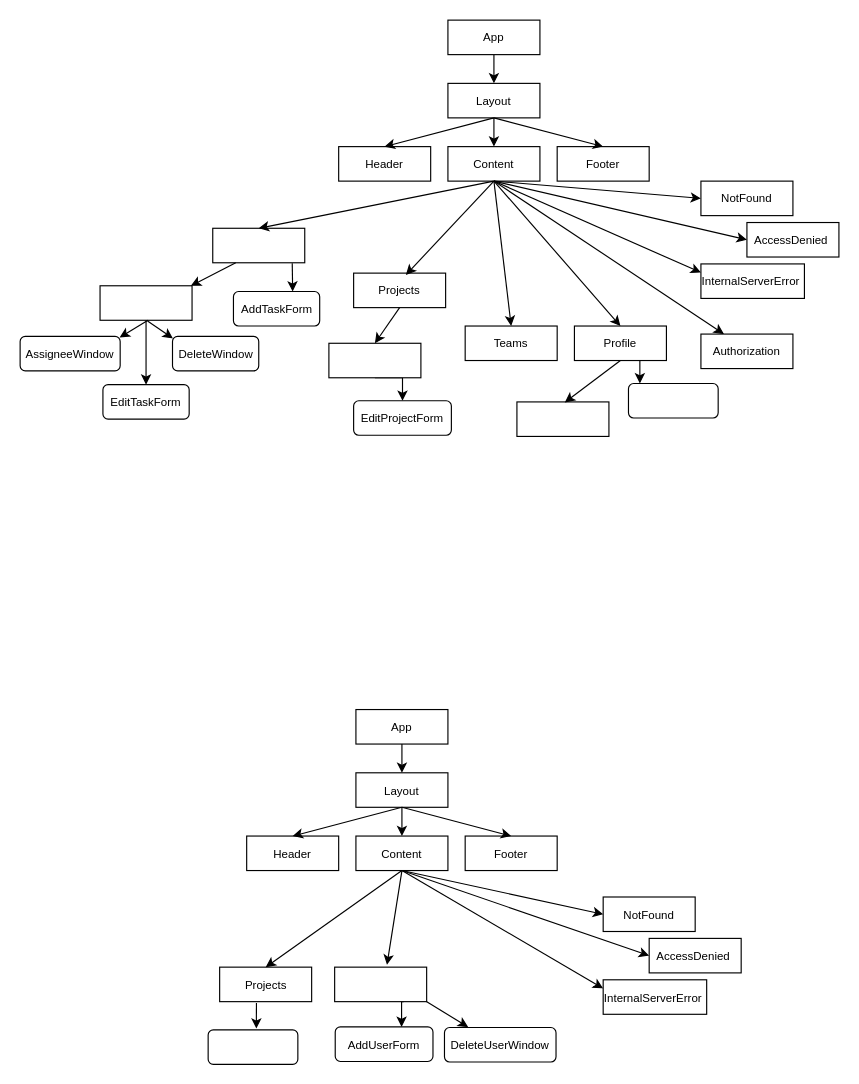
Image size: 859x1084. Some labels were removed from this diagram. The centre of each missing label's shape, as x and y in pixels:
AddProjectForm: (252,1046)
EditProfileForm: (672,400)
Logout: (562,418)
Project: (374,360)
Task: (145,302)
Tasks: (258,245)
Users: (380,984)
